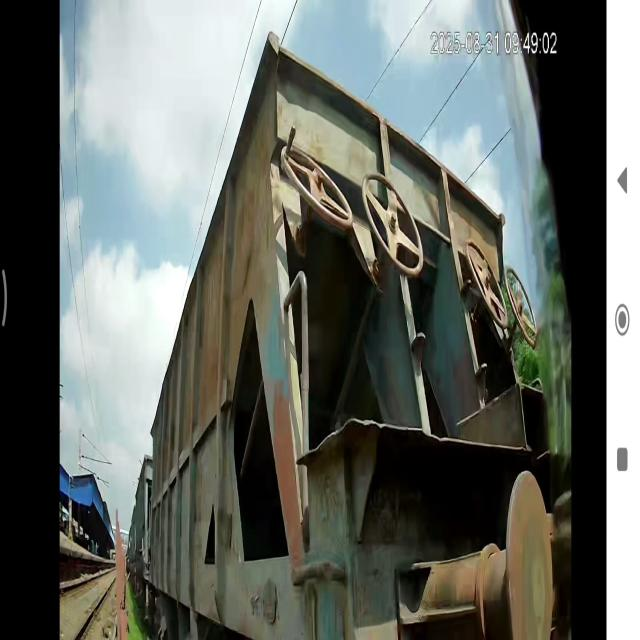coach: (152, 0, 290, 640)
